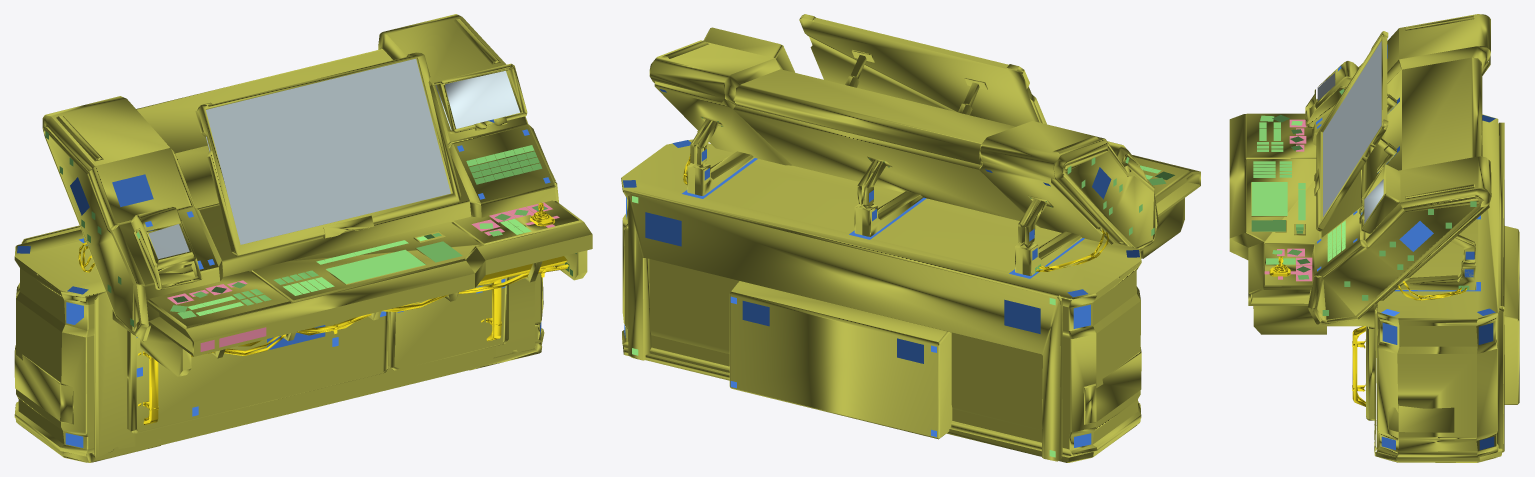
File: console_desk_1_single-screen_b.glb
3 views of the same model, side by side, from view 1: azimuth 30°, elevation 25°; view 2: azimuth 150°, elevation 25°; view 3: azimuth 270°, elevation 25° (orthographic). The views are drawn at different scales.
Bounding box in the file's own units: 2.73 × 1.77 × 1.63.
